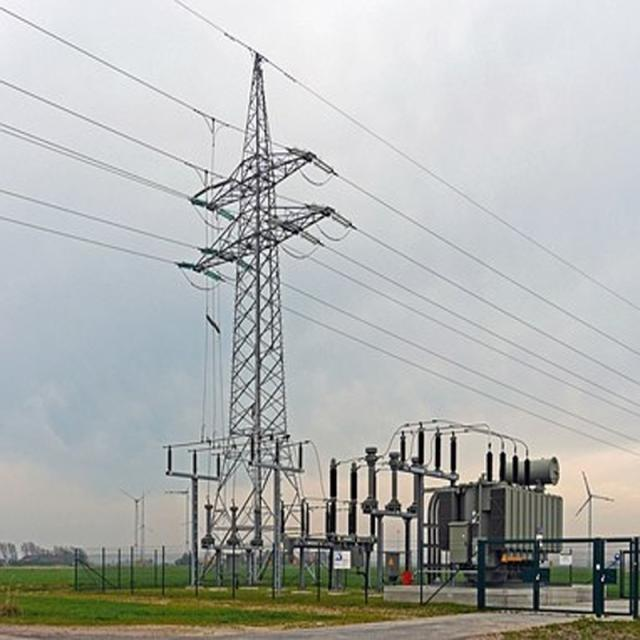non-critical vegetation: (170, 28, 326, 538)
